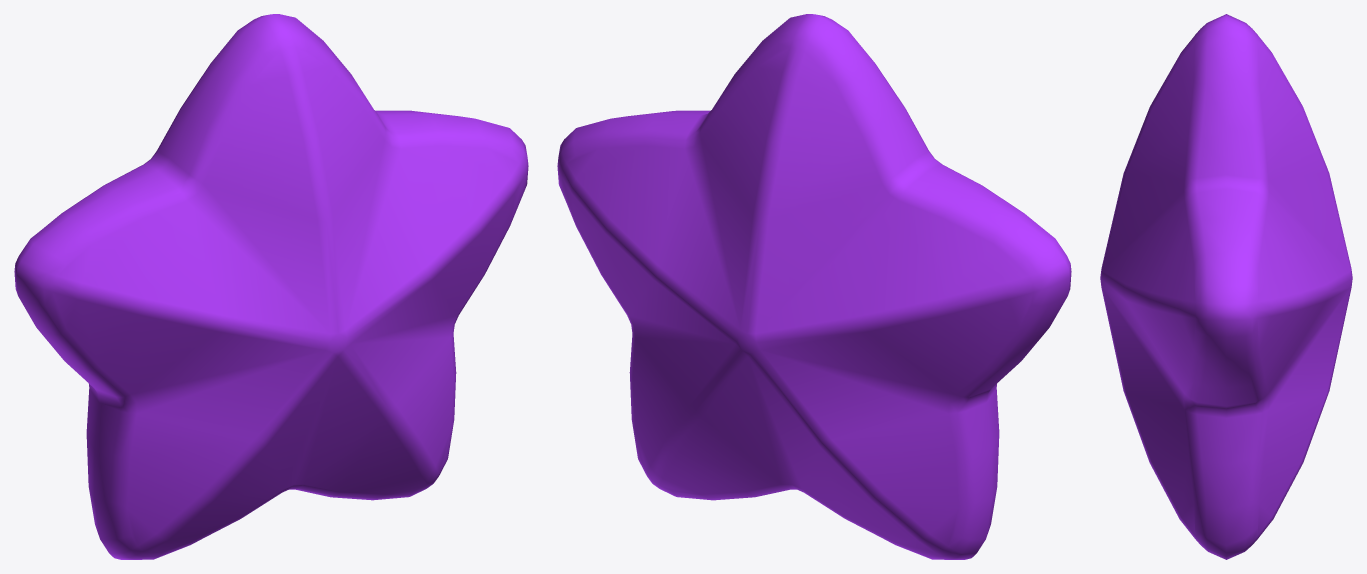
3 renders of one model, left to right at view 1: azimuth 30°, elevation 25°; view 2: azimuth 150°, elevation 25°; view 3: azimuth 270°, elevation 25°, orthographic. The views are drawn at different scales.
Parts seen in each view (by area): view 1: model_0.079; view 2: model_0.079; view 3: model_0.079.
Boxes of the visible parts, left/top/right/bottom form: model_0.079: left=14, top=14, right=528, bottom=559; model_0.079: left=557, top=14, right=1071, bottom=559; model_0.079: left=1100, top=14, right=1352, bottom=559.
Bounding box in the file's own units: 3.93 × 3.78 × 1.81.
